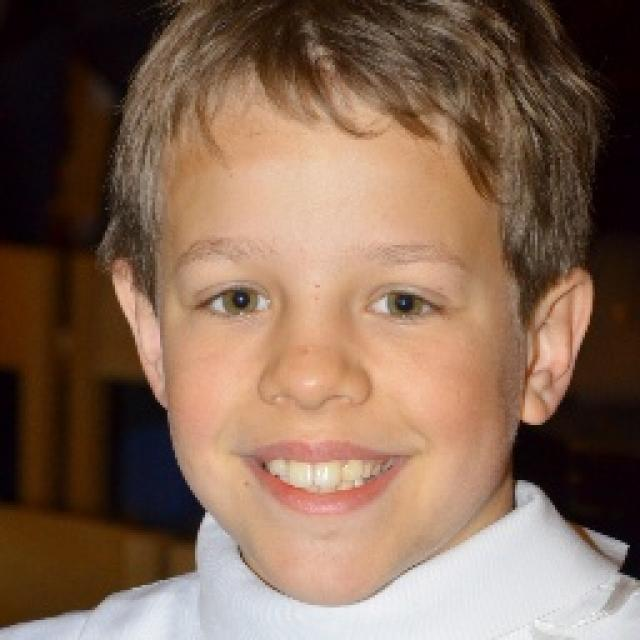earlobe: (519, 371, 559, 427), (140, 353, 170, 411)
eye: (193, 282, 275, 318), (362, 286, 442, 322)
nose: (253, 388, 373, 448)
wholeear: (519, 266, 595, 427), (110, 256, 170, 411)
